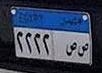2: (42, 33, 52, 55), (15, 31, 24, 53), (33, 32, 41, 55), (25, 31, 33, 53)
saad: (64, 40, 77, 58), (77, 42, 89, 58)
